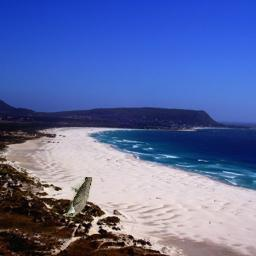Cuckoo: (65, 177, 92, 217)
